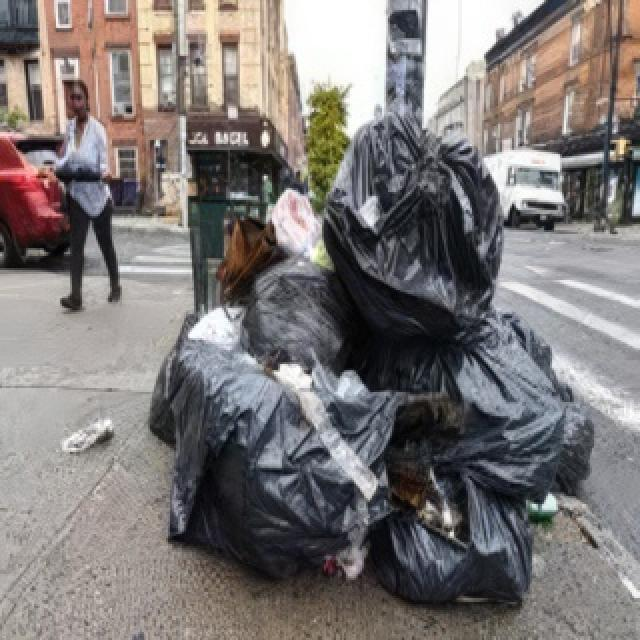high trash: (150, 114, 592, 602)
